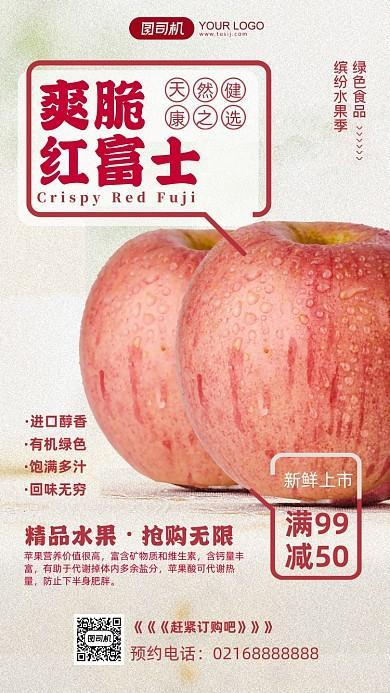apple: (179, 210, 389, 506), (79, 229, 249, 489)
